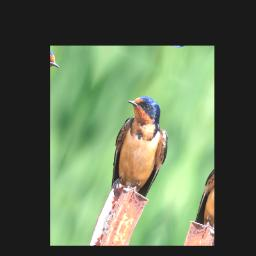Swallow: (93, 88, 184, 212)
